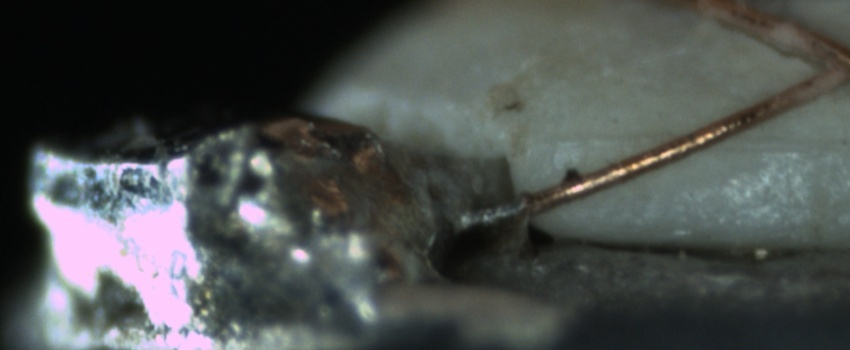CL: (794, 29, 850, 97)
DL: (559, 117, 850, 181)
TS: (456, 197, 526, 236)
